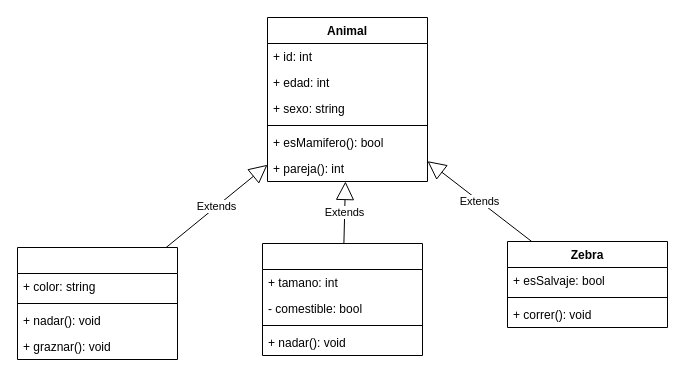
Some shapes in this 685 by 380 pixel diagram are drawn without their labels. The shapes that lost their labels are listed below. From the top down, each one's box as (x1, y1, x2, y2) in pixels, then its label:
(16, 246, 178, 360): Pato
(262, 242, 422, 356): Pez
